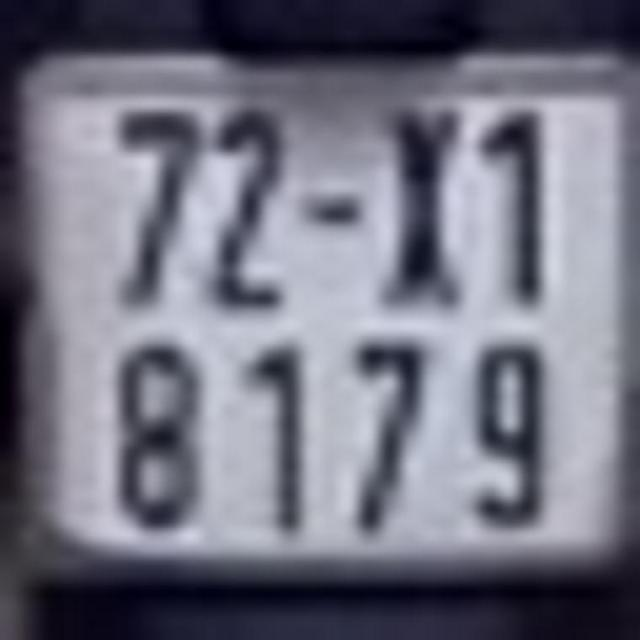1: (484, 108, 544, 316), (242, 342, 306, 532)
2: (208, 113, 288, 305)
7: (116, 108, 200, 306), (349, 342, 427, 540)
8: (114, 342, 200, 522)
9: (474, 338, 544, 529)
X: (386, 111, 464, 312)
